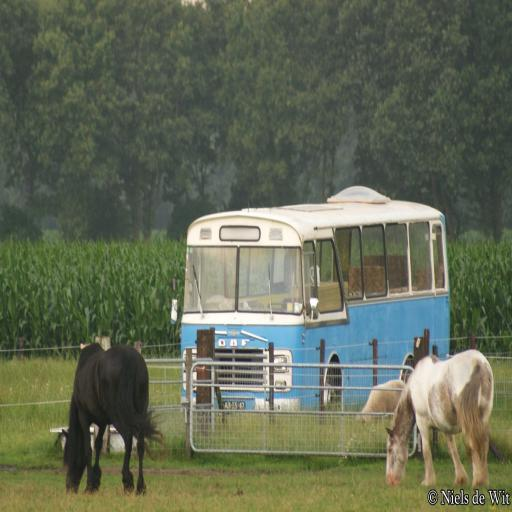horse: (61, 342, 167, 496), (384, 352, 493, 490), (354, 380, 406, 428)
